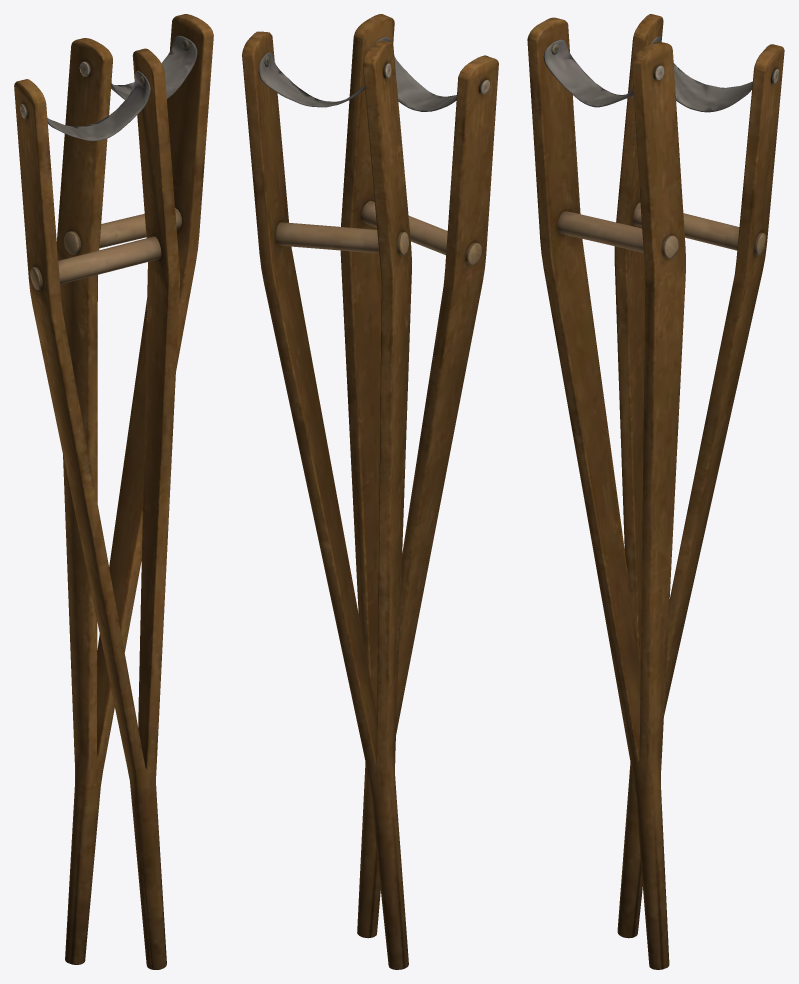
File: vintage_crutches_01.glb
3 views of the same model, side by side, from view 1: azimuth 30°, elevation 25°; view 2: azimuth 150°, elevation 25°; view 3: azimuth 330°, elevation 25° (orthographic).
Parts seen in each view (by area): view 1: vintage_crutches_01_crutch01, vintage_crutches_01_crutch02; view 2: vintage_crutches_01_crutch02, vintage_crutches_01_crutch01; view 3: vintage_crutches_01_crutch01, vintage_crutches_01_crutch02.
Boxes of the visible parts, x1,y1,x2,y2 form: vintage_crutches_01_crutch01: (14,48,179,969); vintage_crutches_01_crutch02: (56,14,213,964); vintage_crutches_01_crutch02: (242,31,411,969); vintage_crutches_01_crutch01: (340,14,498,938); vintage_crutches_01_crutch01: (527,17,685,969); vintage_crutches_01_crutch02: (614,14,784,938).
Bounding box in the file's own units: 0.3836 × 1.6 × 0.2036.
1 material, 1 textured.
